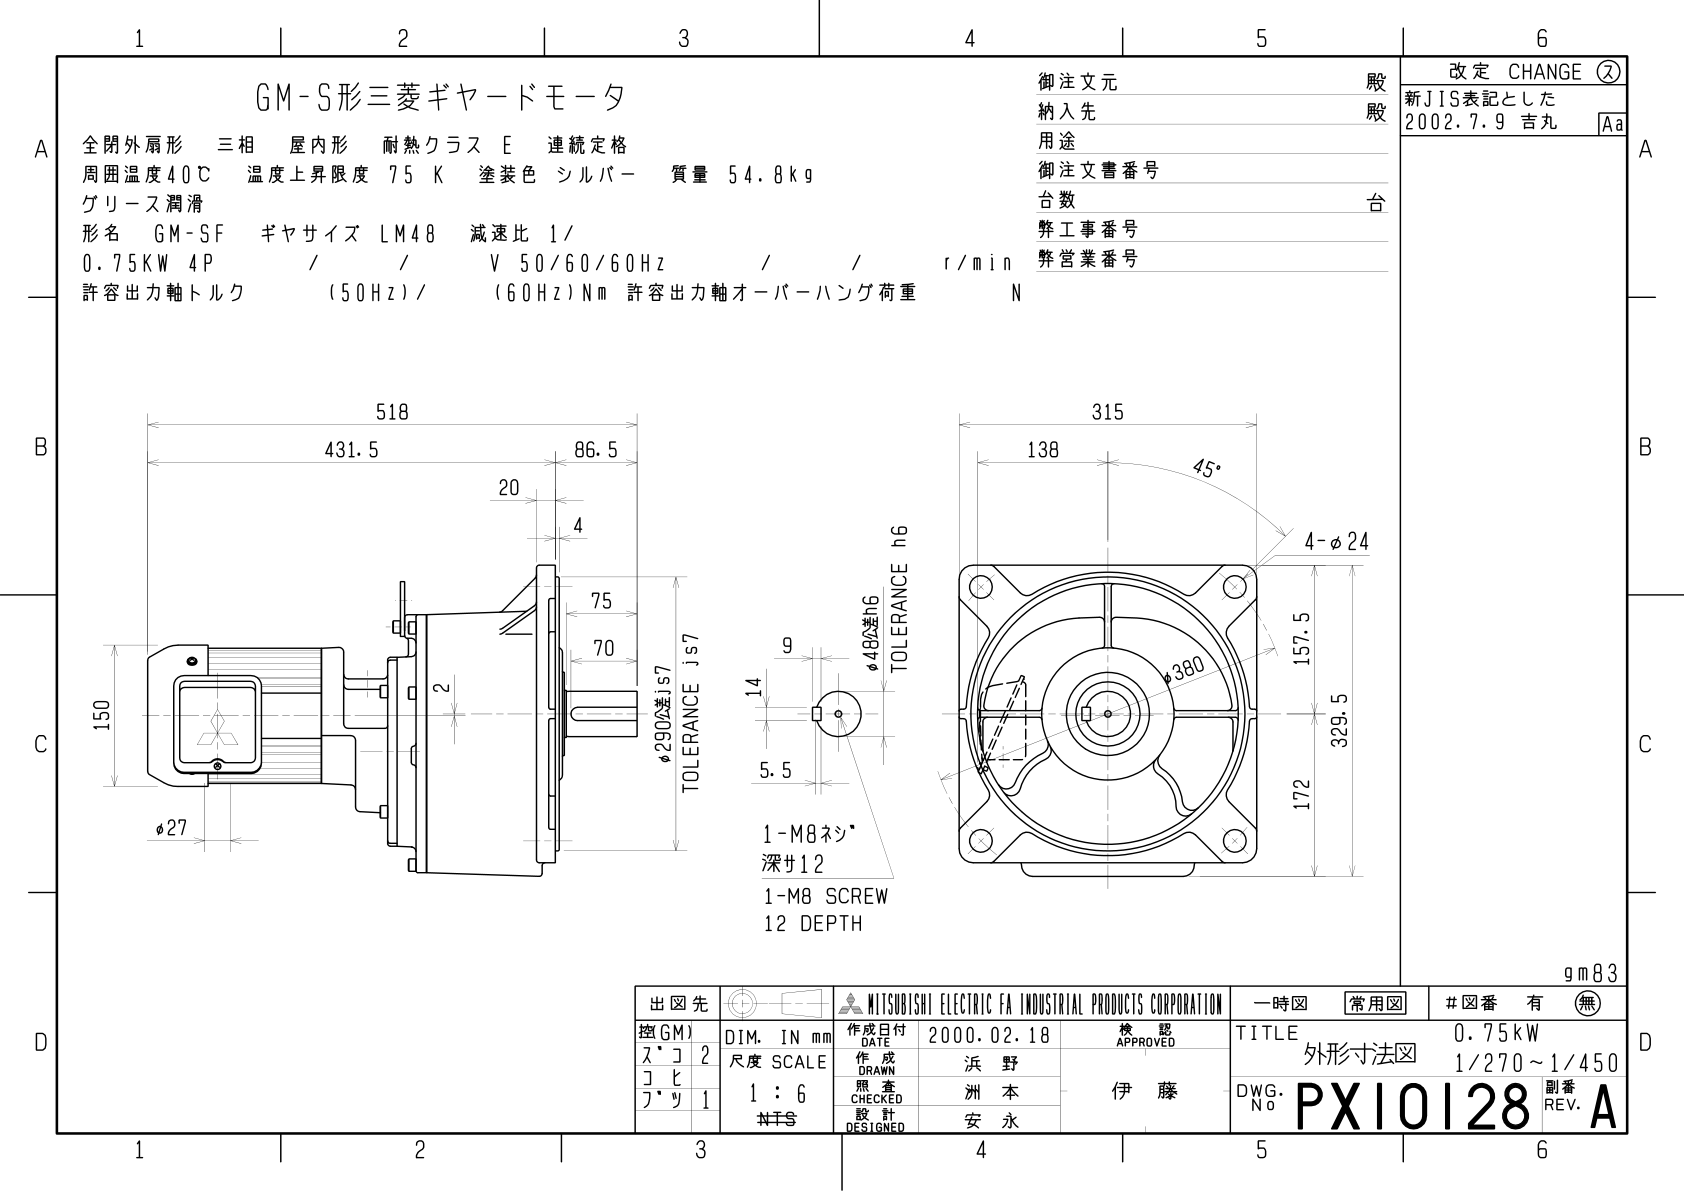GM_S_屋内＿三相_フランジ: (79, 347, 1386, 941)
